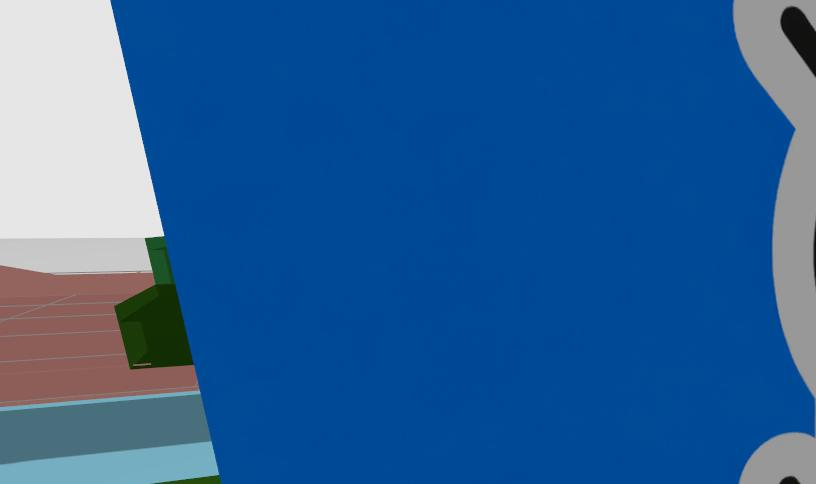KFS_REAL: (113, 0, 816, 484), (734, 0, 816, 484)
